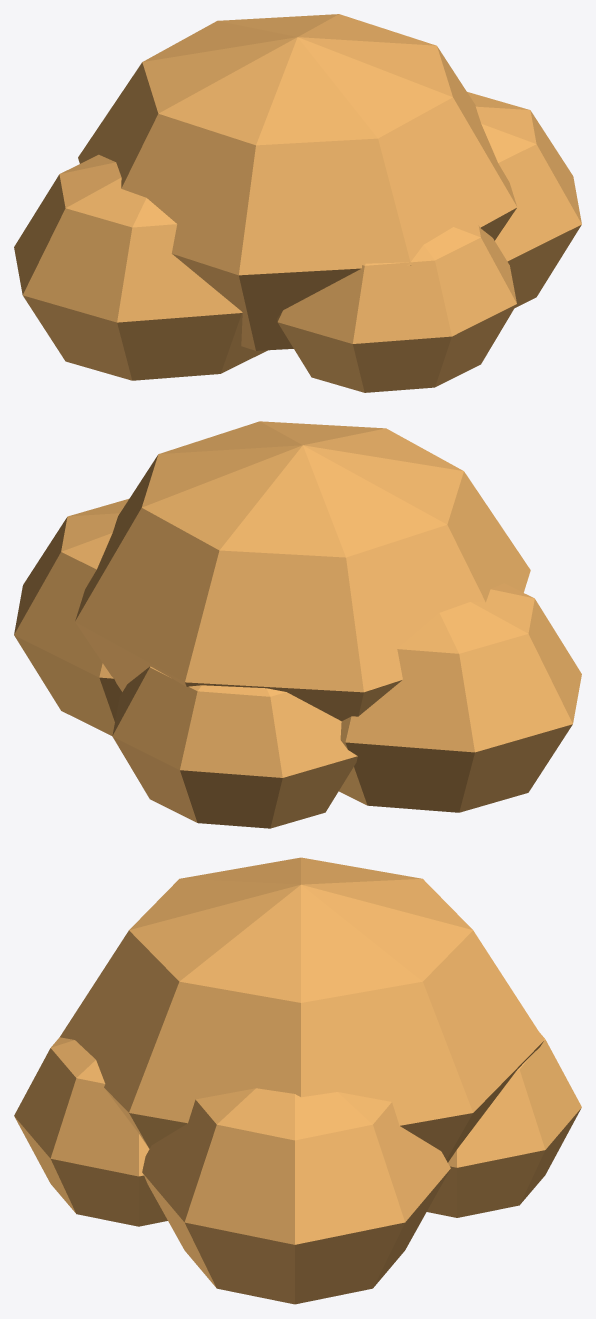
The model's file is t6_tree_leaves.glb.
The picture shows the model from 3 angles, top to bottom: view 1: azimuth 30°, elevation 25°; view 2: azimuth 150°, elevation 25°; view 3: azimuth 270°, elevation 25°; orthographic projection. The views are drawn at different scales.
Visible parts, largest first — view 1: Leaf_Center, Leaf_Left, Leaf_Back, Leaf_Right; view 2: Leaf_Center, Leaf_Left, Leaf_Front, Leaf_Right; view 3: Leaf_Center, Leaf_Right, Leaf_Back, Leaf_Front.
Boxes of the visible parts, x1=… form: Leaf_Center: x1=78, y1=14, x2=517, y2=350; Leaf_Left: x1=14, y1=154, x2=267, y2=380; Leaf_Back: x1=277, y1=225, x2=516, y2=392; Leaf_Right: x1=467, y1=92, x2=581, y2=307; Leaf_Center: x1=75, y1=421, x2=530, y2=721; Leaf_Left: x1=339, y1=583, x2=581, y2=812; Leaf_Front: x1=112, y1=666, x2=357, y2=828; Leaf_Right: x1=14, y1=499, x2=128, y2=735; Leaf_Center: x1=60, y1=857, x2=544, y2=1162; Leaf_Right: x1=142, y1=1088, x2=450, y2=1304; Leaf_Back: x1=14, y1=1037, x2=167, y2=1226; Leaf_Front: x1=427, y1=1033, x2=581, y2=1217.
Bounding box in the file's own units: 2.14 × 1.18 × 1.82.
